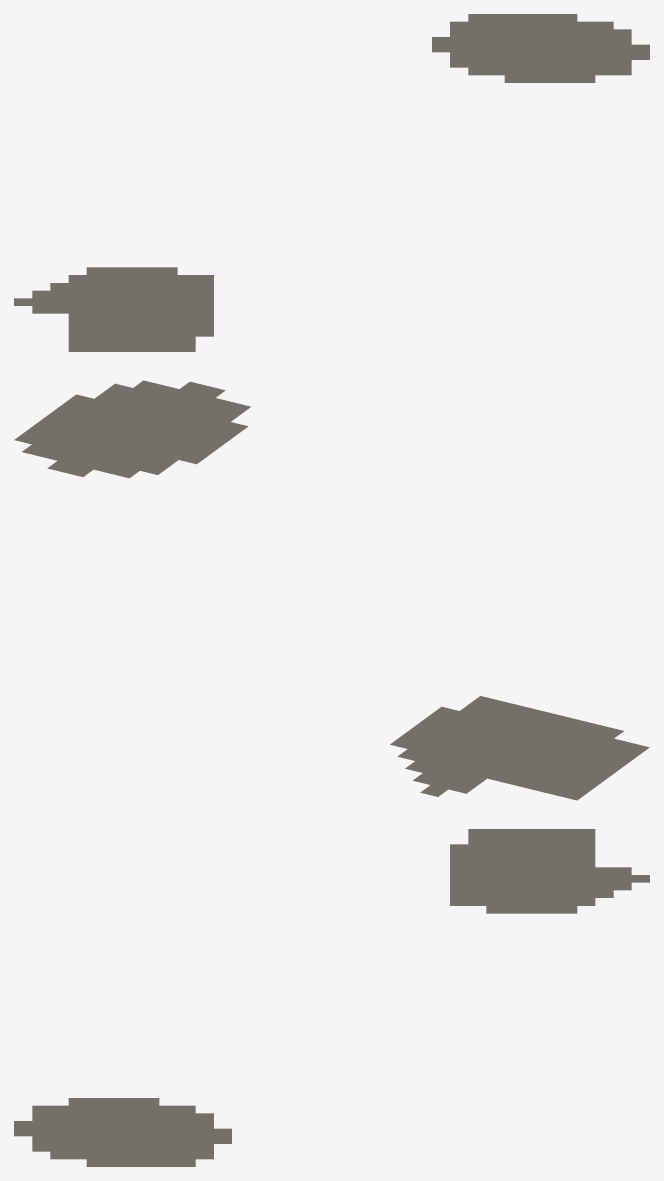
The model's file is Isl-flat2-RocksArea.fbx.
3 views of the same model, one above another, from view 1: azimuth 90°, elevation 25°; view 2: azimuth 150°, elevation 25°; view 3: azimuth 270°, elevation 25° (orthographic). The views are drawn at different scales.
Visible parts, largest first — view 1: Isl-flat2-RocksArea; view 2: Isl-flat2-RocksArea; view 3: Isl-flat2-RocksArea.
Boxes of the visible parts, x1,y1,x2,y2 form: Isl-flat2-RocksArea: (14,14,649,351); Isl-flat2-RocksArea: (14,380,649,800); Isl-flat2-RocksArea: (14,829,649,1166).
Size of the model in its own units: 44 by 0 by 35.
